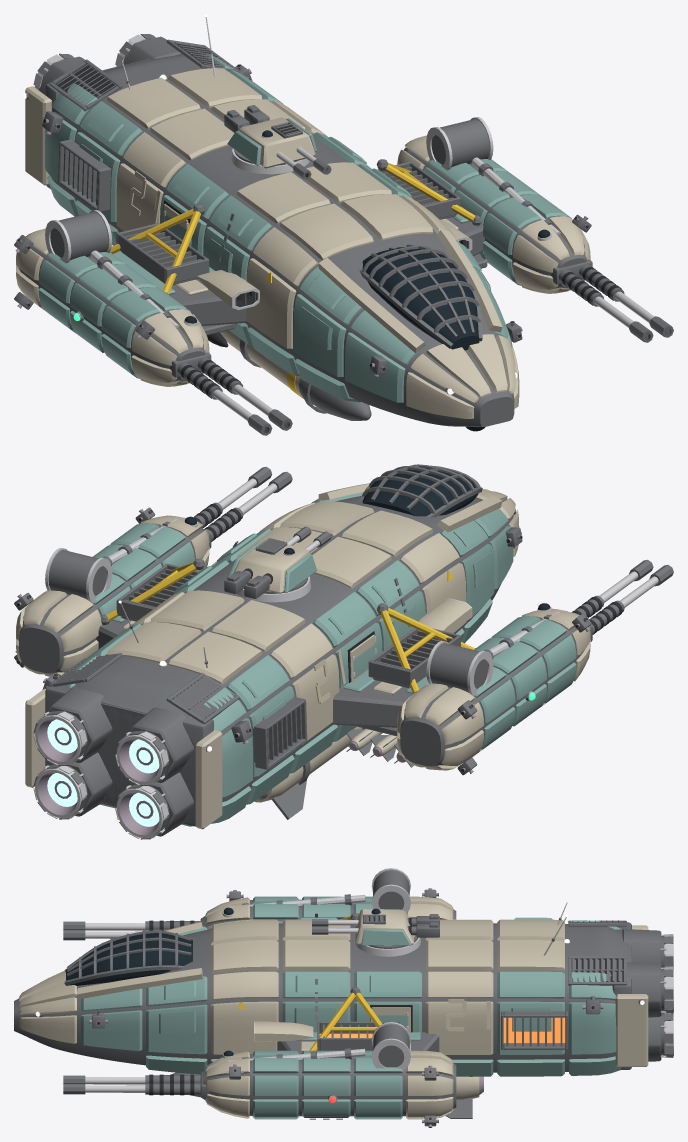
The model's file is interceptor_b.glb.
The picture shows the model from 3 angles, top to bottom: view 1: azimuth 30°, elevation 25°; view 2: azimuth 150°, elevation 25°; view 3: azimuth 270°, elevation 25°; orthographic projection. The views are drawn at different scales.
Visible parts, largest first — view 1: interceptor_b; view 2: interceptor_b; view 3: interceptor_b.
Part boxes in pixels (x1=…): interceptor_b: x1=14, y1=14, x2=673, y2=435; interceptor_b: x1=14, y1=464, x2=673, y2=839; interceptor_b: x1=14, y1=868, x2=673, y2=1127.
Bounding box in the file's own units: 6.77 × 3.29 × 10.14.
